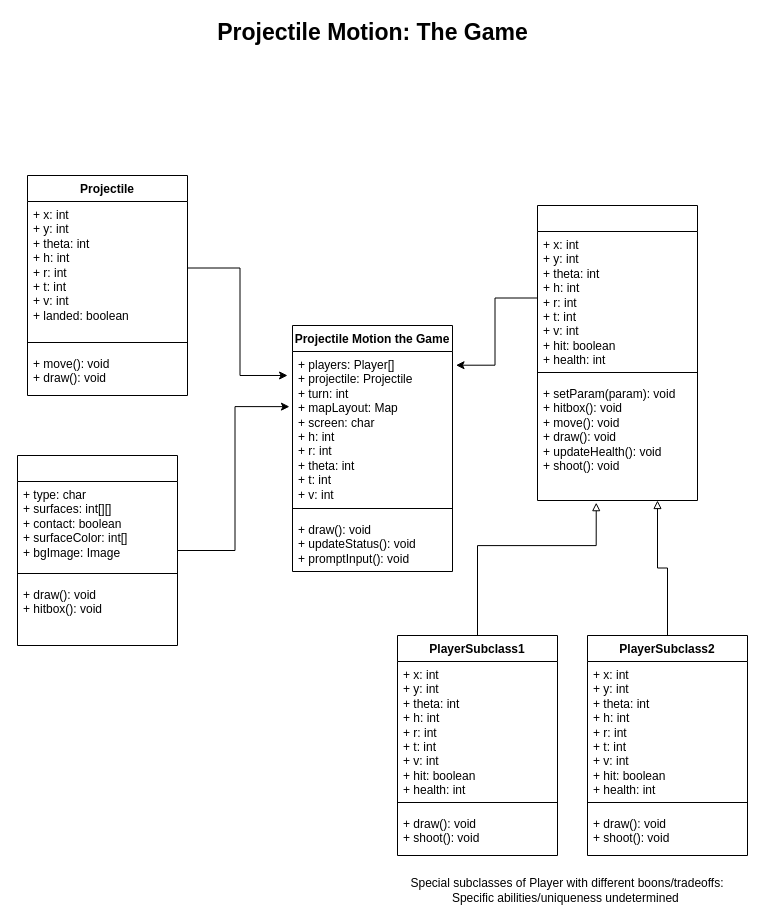
Image size: 765x922. Some labels were removed from this diagram. Here are the shapes that lost their labels. From the top down, the box of each, then its label:
(536, 204, 698, 500): Player
(16, 454, 178, 646): Map
